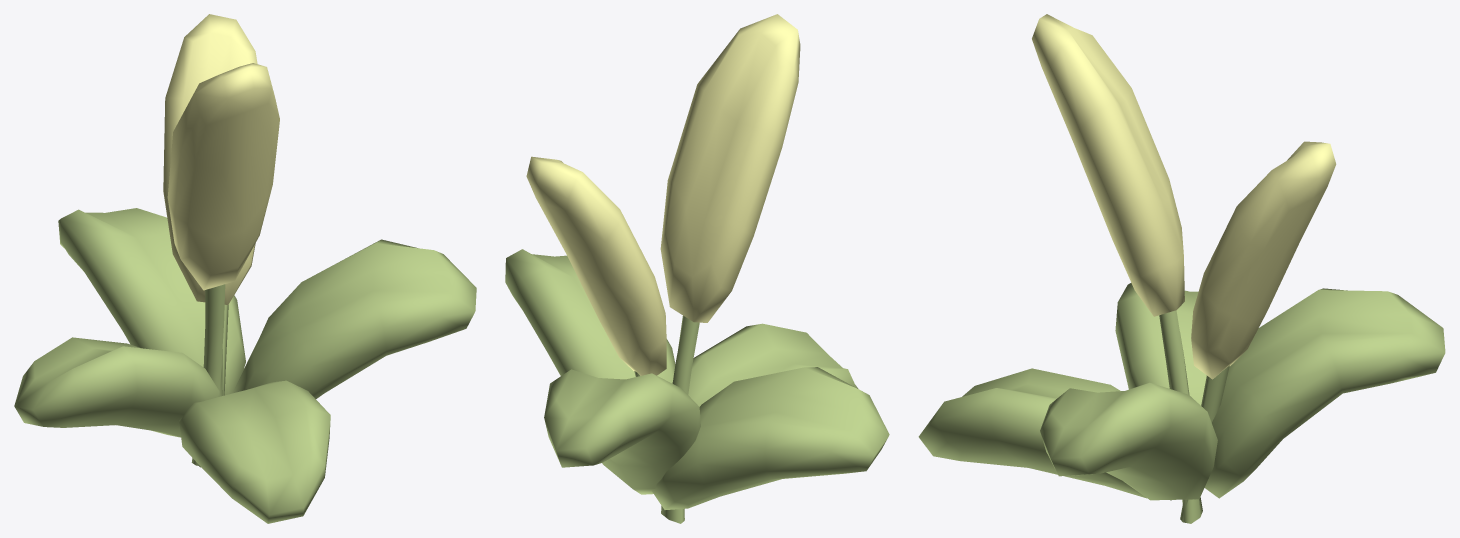
Rendered from Flower_13.fbx.
The picture shows the model from 3 angles, left to right: view 1: azimuth 30°, elevation 25°; view 2: azimuth 150°, elevation 25°; view 3: azimuth 270°, elevation 25°; orthographic projection. The views are drawn at different scales.
Visible parts, largest first — view 1: polySurface717; view 2: polySurface717; view 3: polySurface717.
Boxes of the visible parts, x1,y1,x2,y2 form: polySurface717: [14, 14, 476, 523]; polySurface717: [505, 14, 889, 523]; polySurface717: [918, 14, 1445, 523].
Bounding box in the file's own units: 48.02 × 50.9 × 50.28.
